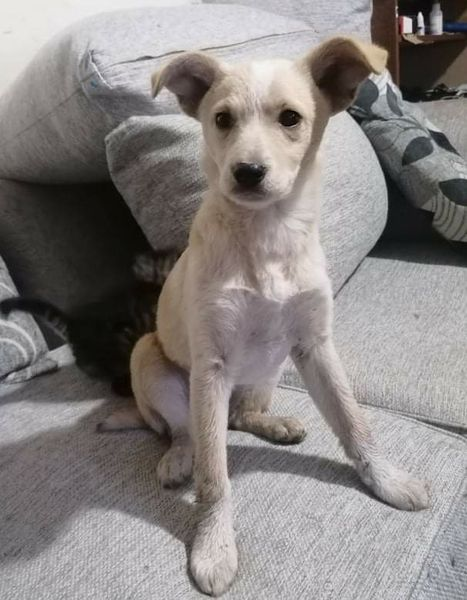dog: (110, 28, 447, 598)
